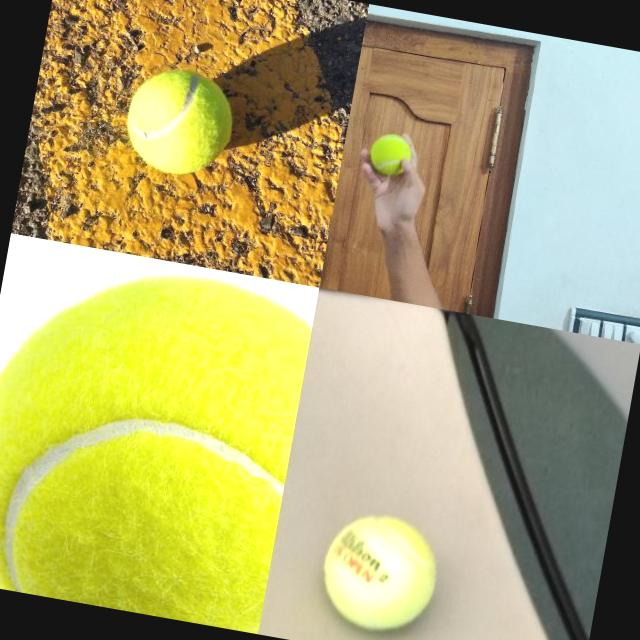Tennis Ball: (0, 245, 315, 633), (309, 505, 446, 640), (115, 58, 244, 184), (366, 128, 414, 177)
